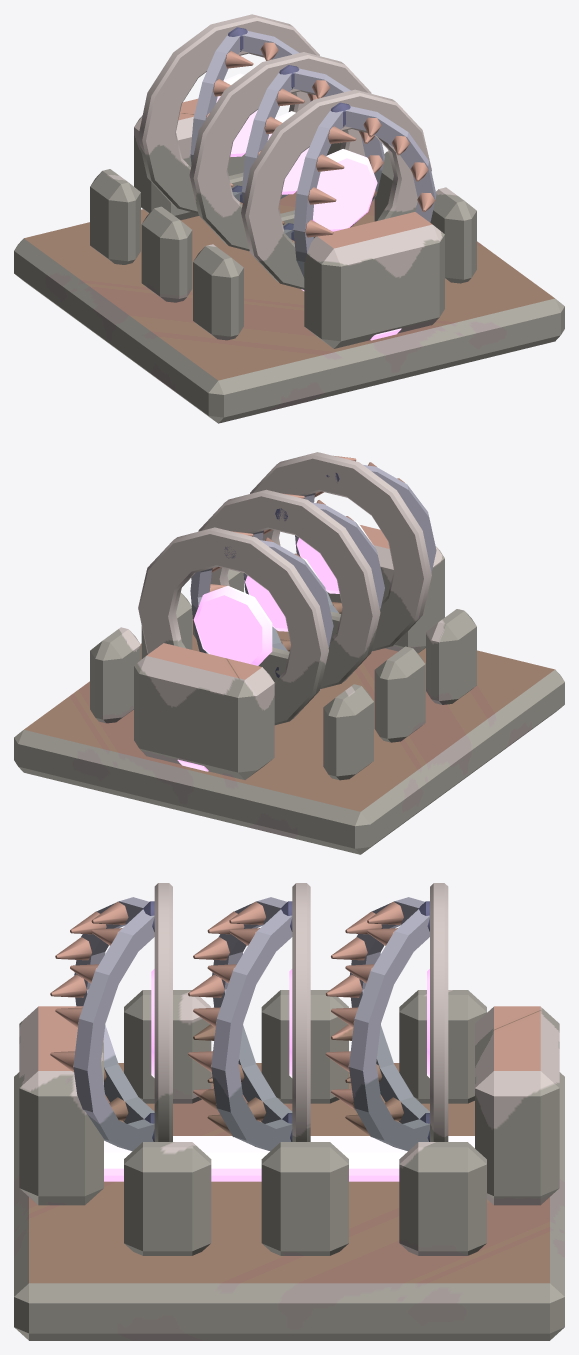
Rendered from R4X_SnareTrapDeployer_LOD1.glb.
3 views of the same model, one above another, from view 1: azimuth 30°, elevation 25°; view 2: azimuth 150°, elevation 25°; view 3: azimuth 270°, elevation 25° (orthographic). The views are drawn at different scales.
Parts seen in each view (by area): view 1: R4X_SnareTrapDeployer_LOD1; view 2: R4X_SnareTrapDeployer_LOD1; view 3: R4X_SnareTrapDeployer_LOD1.
Boxes of the visible parts, x1,y1,x2,y2 form: R4X_SnareTrapDeployer_LOD1: [14, 14, 564, 423]; R4X_SnareTrapDeployer_LOD1: [14, 452, 564, 854]; R4X_SnareTrapDeployer_LOD1: [14, 883, 564, 1340].
Size of the model in its own units: 0.52 by 0.3479 by 0.52.
5 materials, 4 textured.
